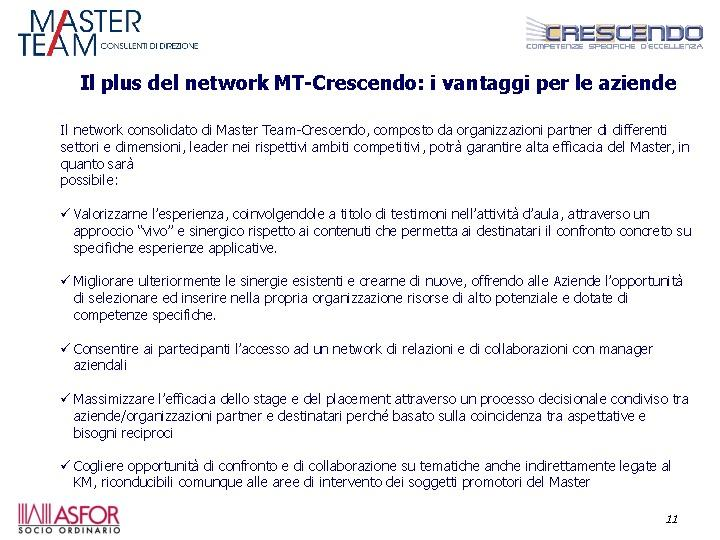paragraph: (49, 112, 702, 497)
title: (76, 62, 690, 106)
